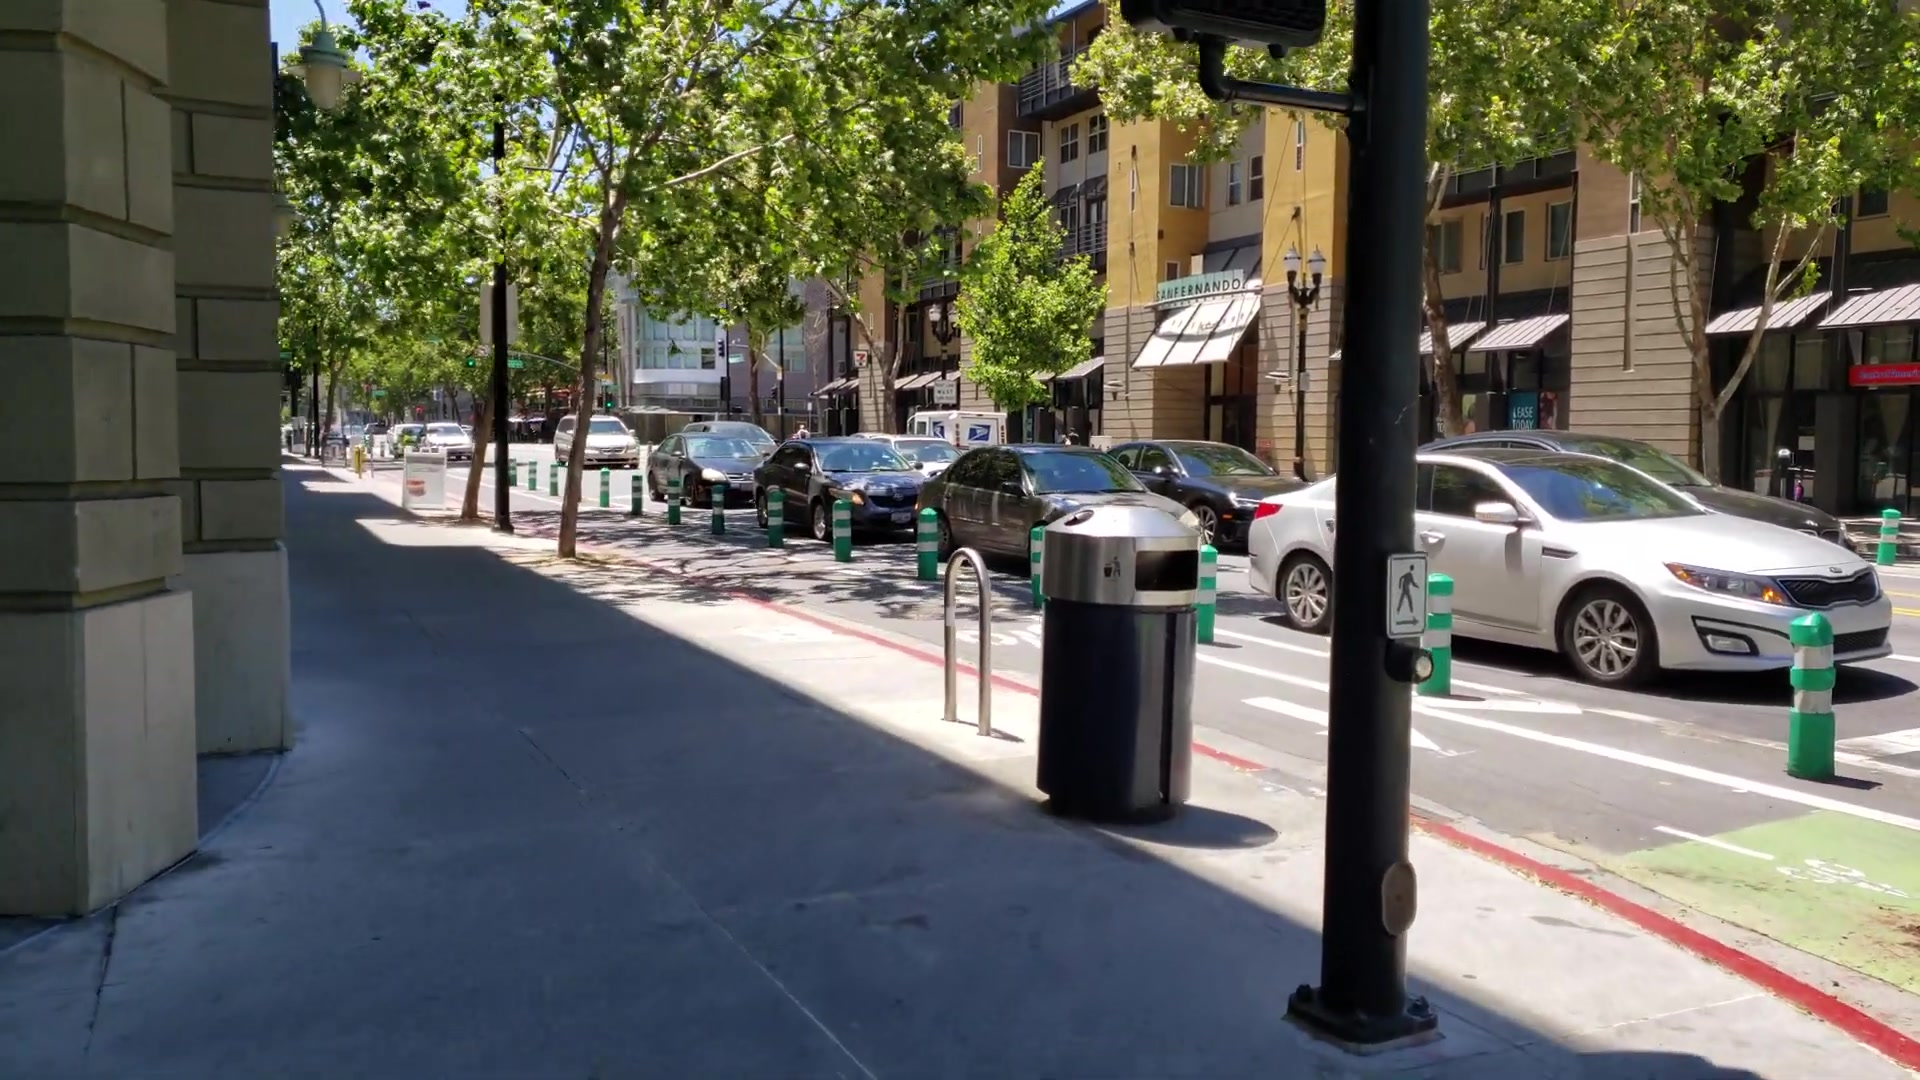vehicle: (1251, 454, 1896, 676), (756, 444, 916, 535), (647, 433, 753, 501)
